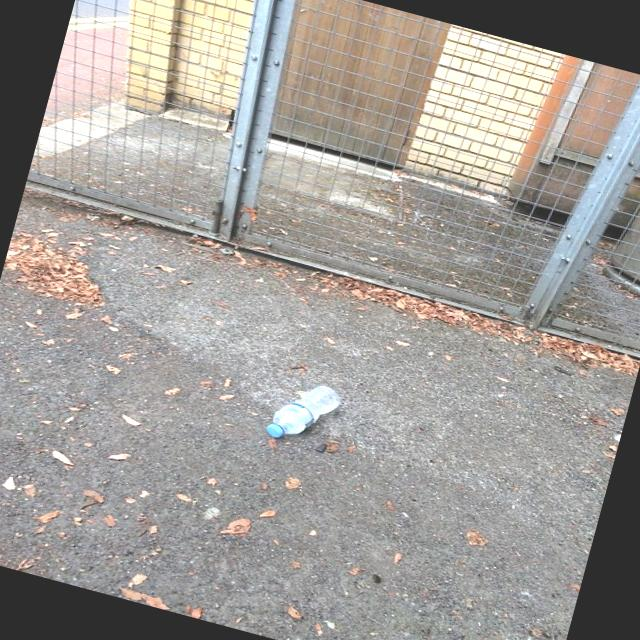Recycle: (262, 369, 347, 454)
